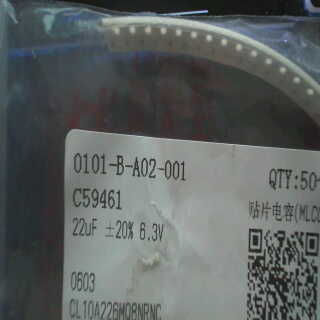22uF: (68, 215, 98, 239)
